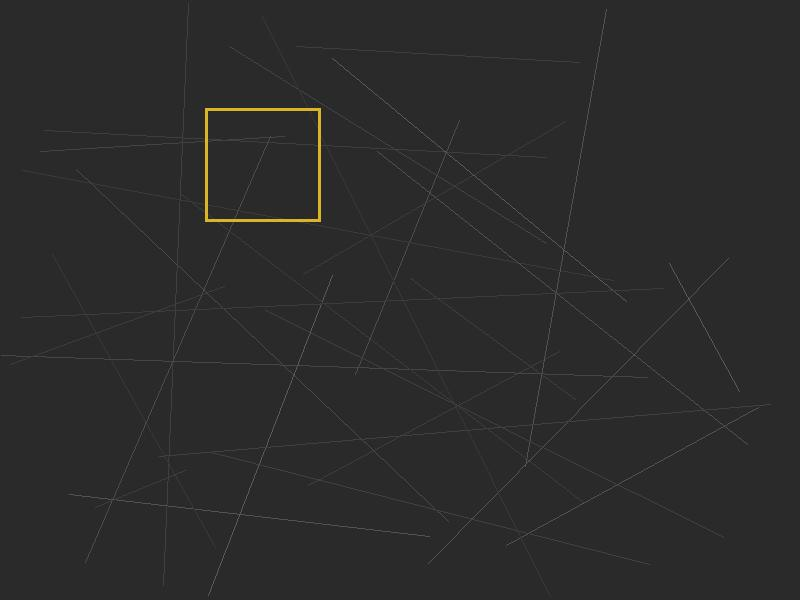D00: (205, 108, 320, 221)
